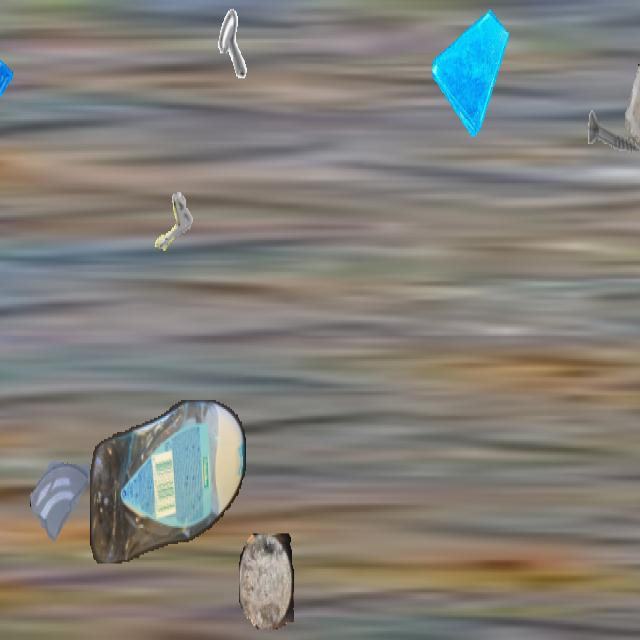glass: (432, 2, 508, 137), (30, 436, 92, 546), (625, 60, 640, 192), (0, 2, 12, 158)
metal: (186, 2, 248, 112), (137, 176, 197, 283), (586, 76, 640, 186)
plastic: (90, 400, 246, 564)
wood: (239, 534, 293, 630)
